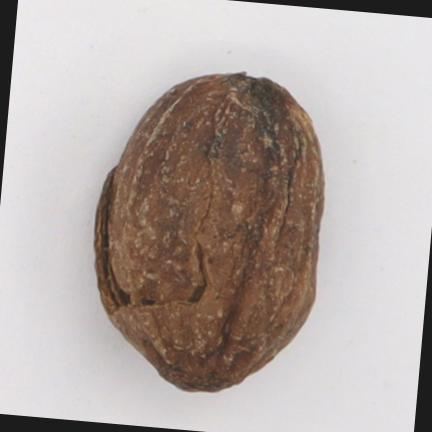husk: (94, 73, 324, 391)
